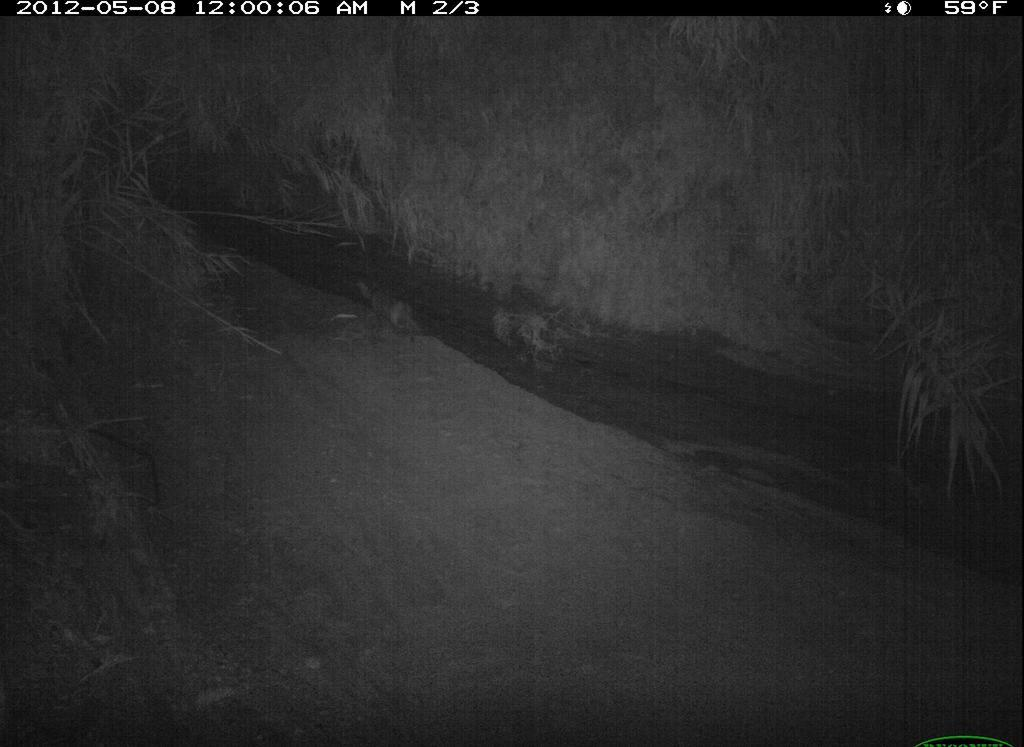cat: (700, 546, 850, 671)
